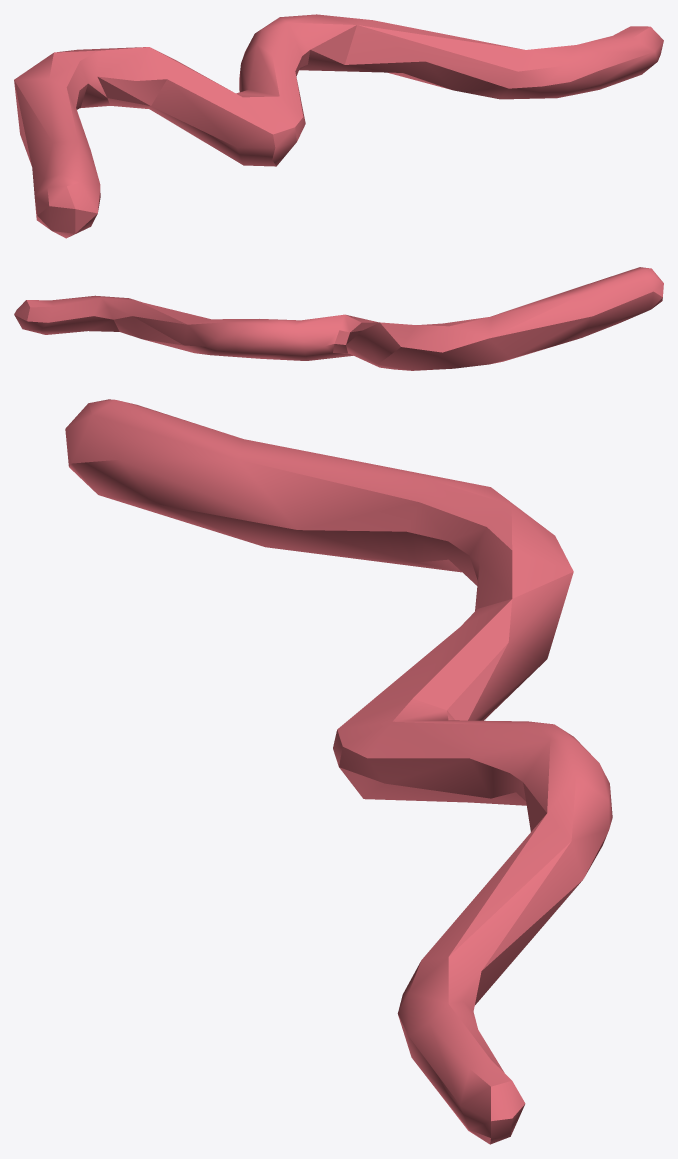
Rendered from fma4713_fj2688.glb.
The picture shows the model from 3 angles, top to bottom: view 1: azimuth 30°, elevation 25°; view 2: azimuth 150°, elevation 25°; view 3: azimuth 270°, elevation 25°; orthographic projection. The views are drawn at different scales.
Visible parts, largest first — view 1: FMA4713_FJ2688; view 2: FMA4713_FJ2688; view 3: FMA4713_FJ2688.
Part boxes in pixels (x1,y1,x2,y2): FMA4713_FJ2688: (14,14,663,238); FMA4713_FJ2688: (14,267,663,370); FMA4713_FJ2688: (65,399,612,1144).
Bounding box in the file's own units: 0.012 × 0.00248 × 0.00515.
